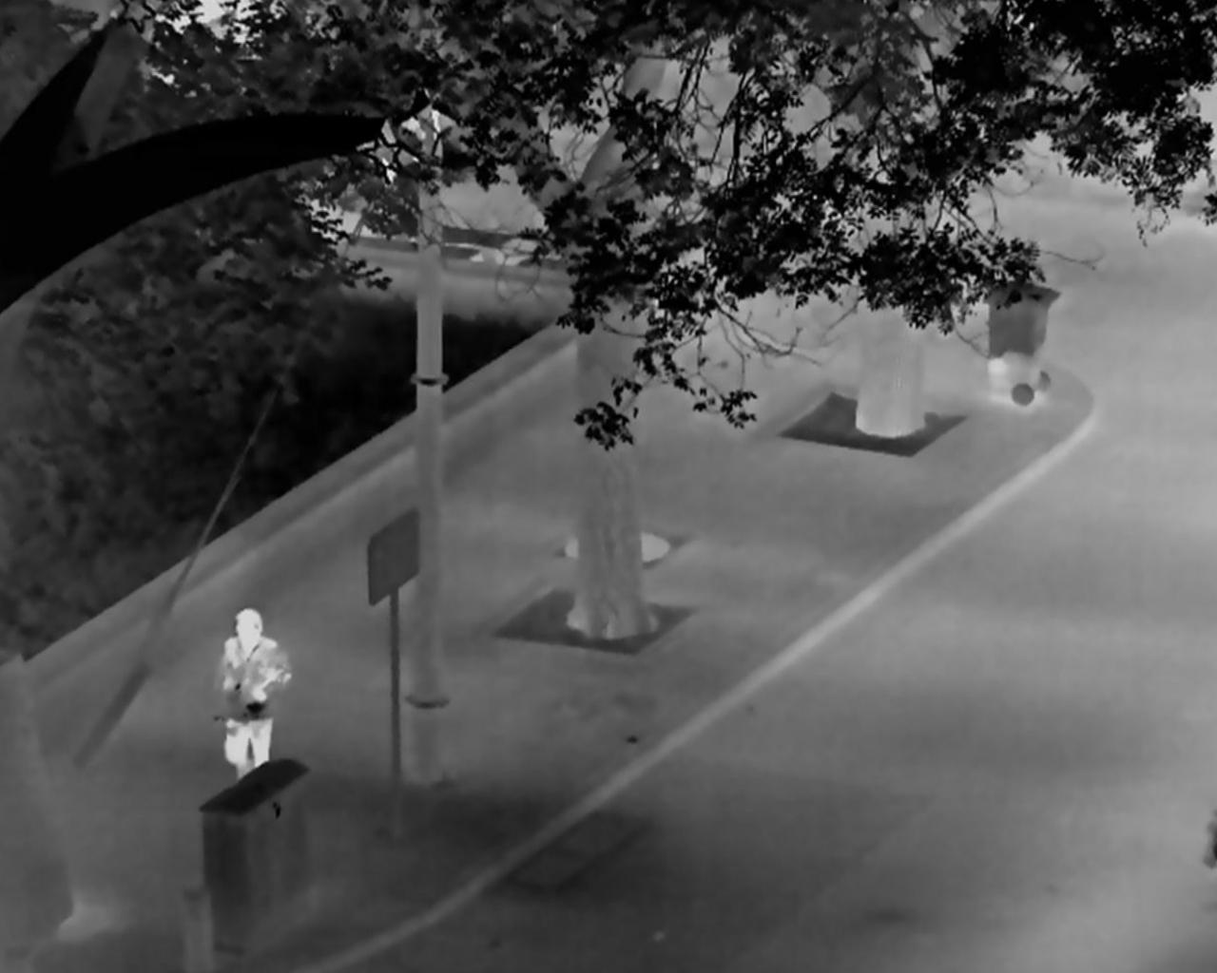person: (215, 608, 293, 783)
